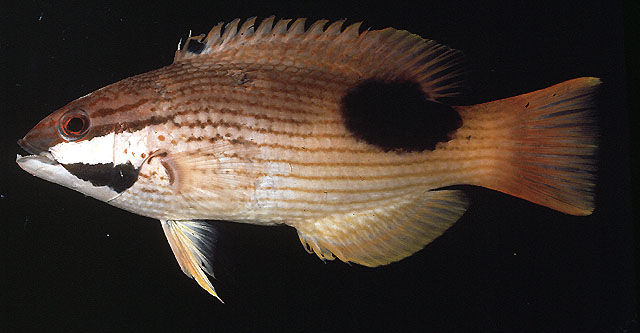fish: (16, 16, 604, 305)
